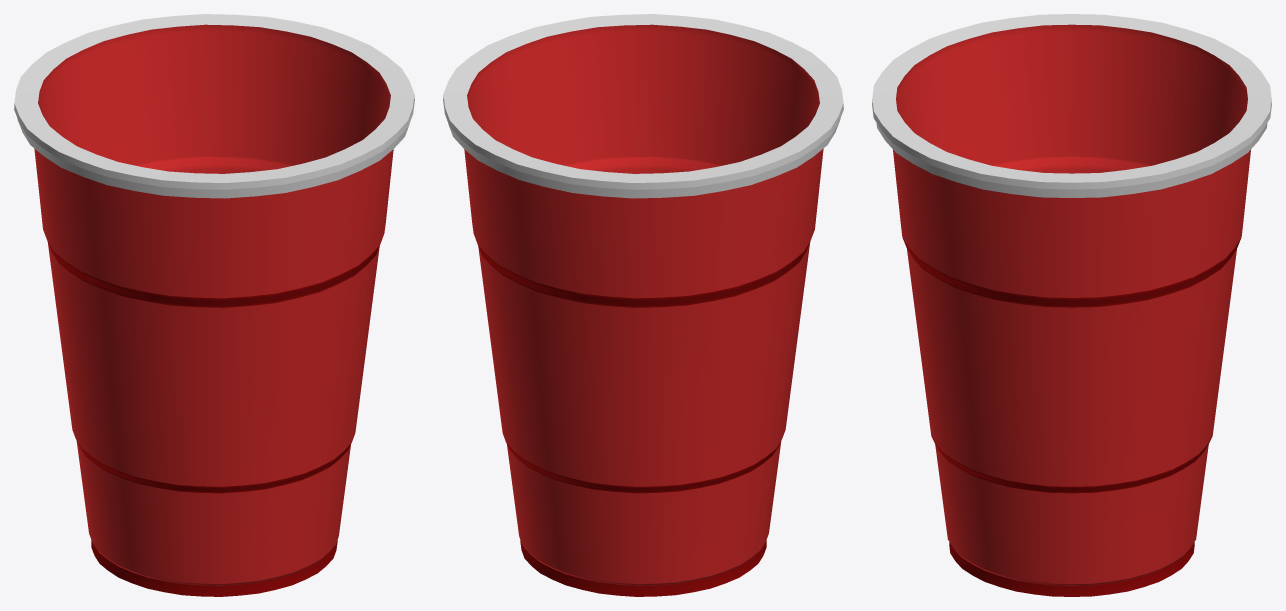
The model's file is paper cup.fbx.
3 renders of one model, left to right at view 1: azimuth 30°, elevation 25°; view 2: azimuth 150°, elevation 25°; view 3: azimuth 270°, elevation 25°, orthographic.
Parts seen in each view (by area): view 1: pCylinder1; view 2: pCylinder1; view 3: pCylinder1.
Boxes of the visible parts, left/top/right/bottom form: pCylinder1: left=14, top=14, right=414, bottom=596; pCylinder1: left=443, top=14, right=843, bottom=596; pCylinder1: left=872, top=14, right=1271, bottom=596.
Size of the model in its own units: 14.69 by 18.12 by 14.69.
